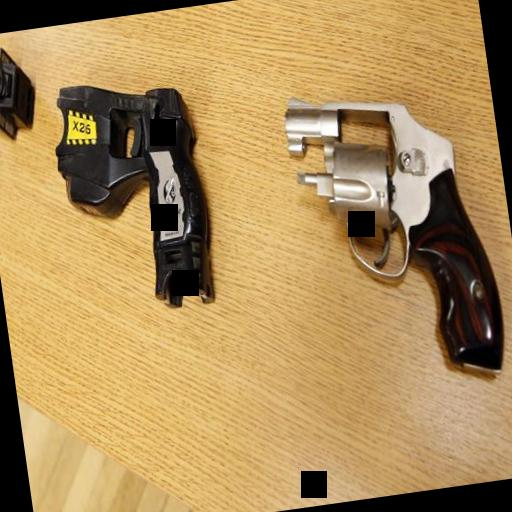Handgun: (277, 53, 512, 426)
